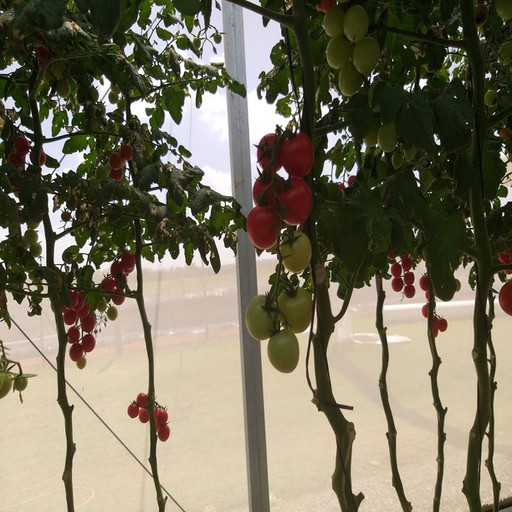green tomato bunch: (317, 5, 381, 98), (359, 115, 418, 168)
mixed tomato bunch: (246, 128, 311, 376)
red tomato bunch: (60, 291, 95, 357), (128, 393, 170, 443), (382, 242, 415, 300), (421, 275, 448, 336), (102, 254, 135, 303), (9, 139, 45, 169), (110, 146, 132, 179)
